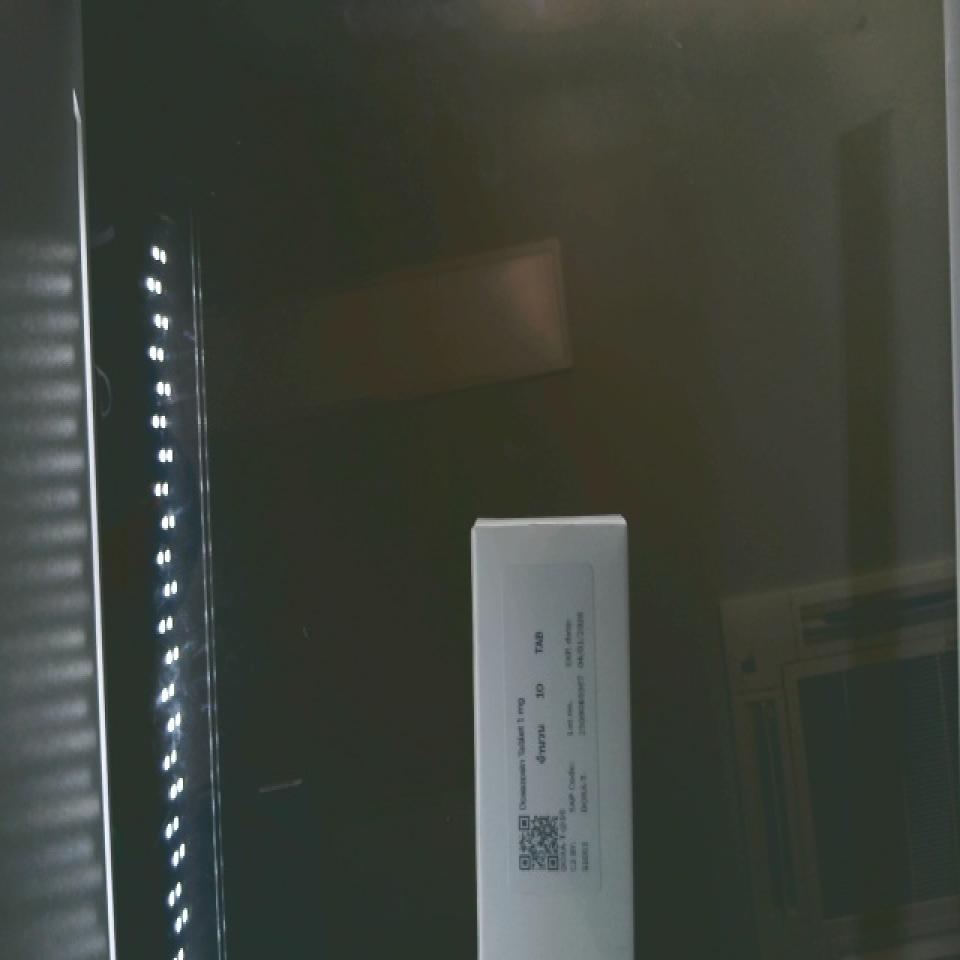medicine_box: (469, 525, 633, 959)
qr_code: (507, 802, 579, 891)
